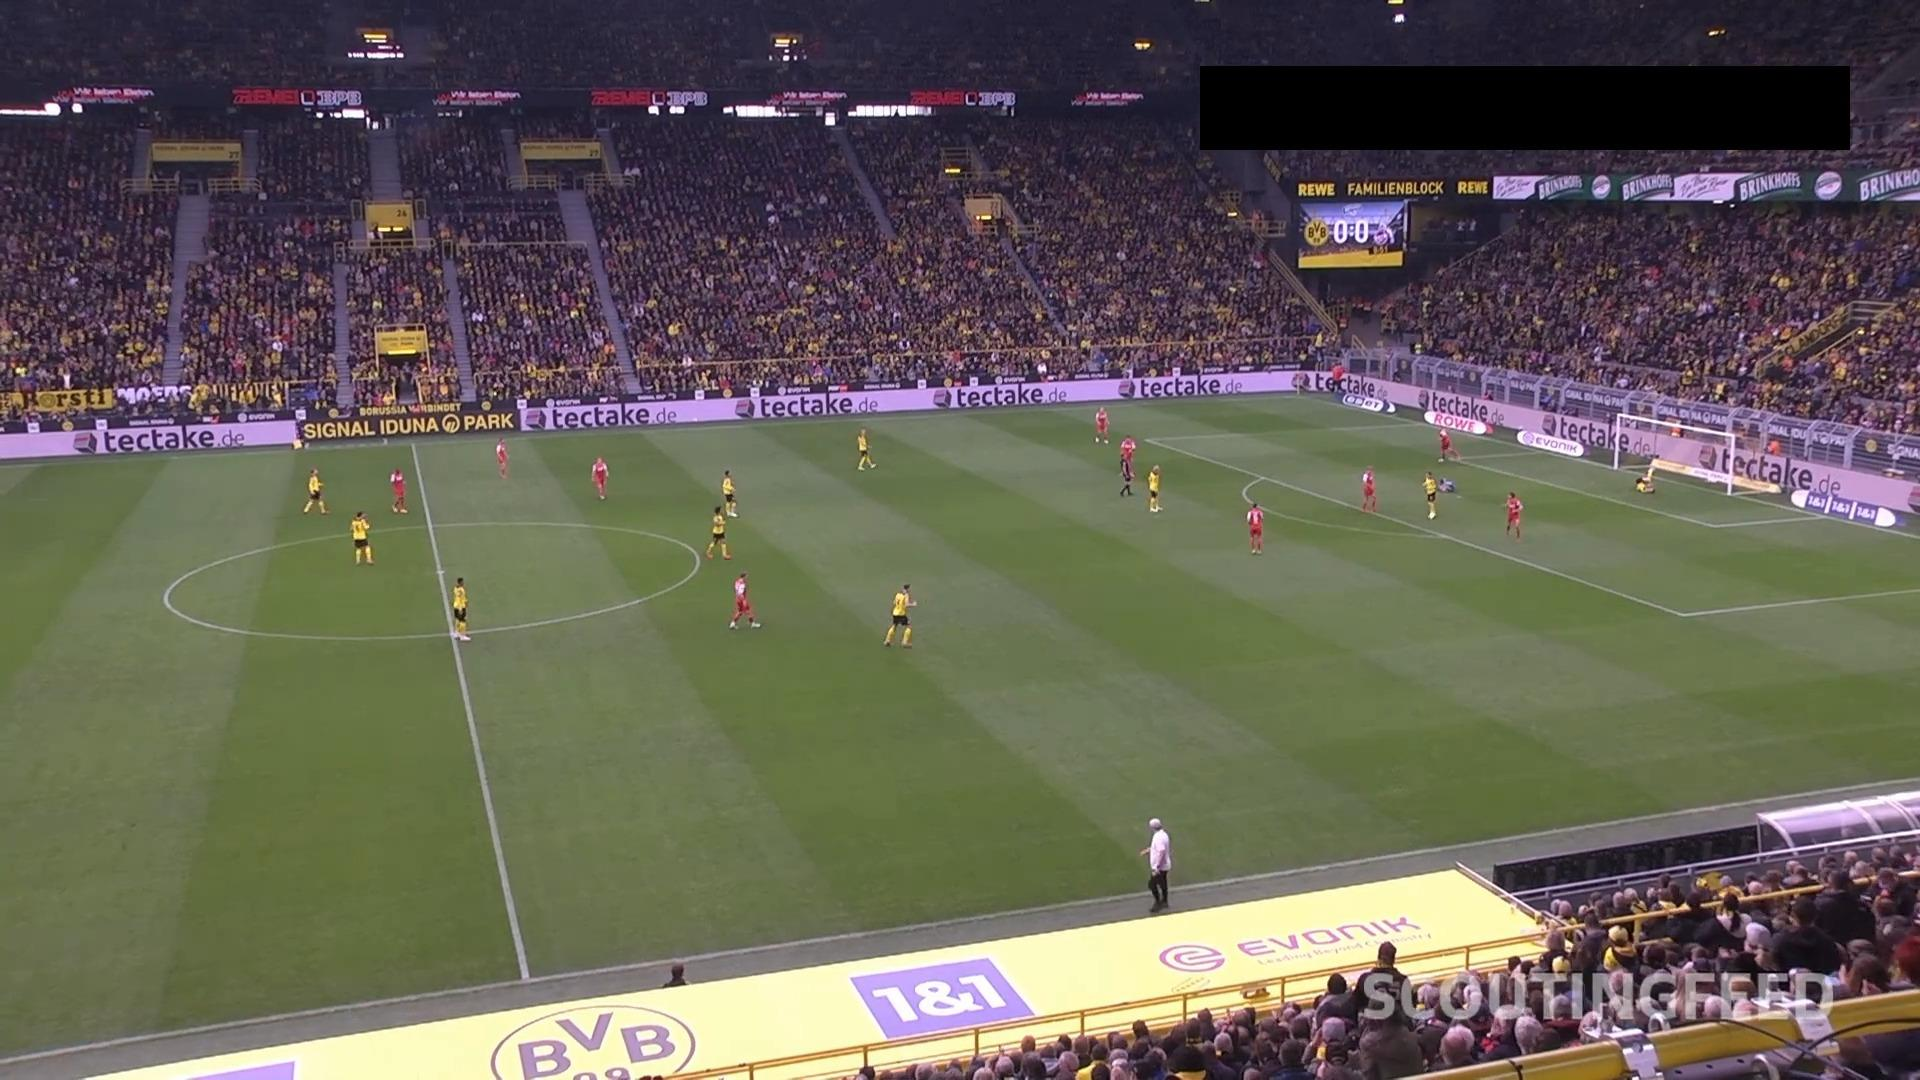coach: (1138, 816, 1172, 914)
player: (881, 582, 917, 647), (727, 570, 760, 628), (704, 504, 732, 560), (301, 466, 329, 514), (350, 509, 374, 565), (450, 575, 470, 640), (1118, 434, 1136, 496), (1245, 500, 1264, 553), (388, 466, 409, 513), (1503, 490, 1523, 539), (1635, 454, 1659, 493), (855, 426, 876, 470), (720, 469, 738, 518), (1421, 470, 1438, 519), (1436, 427, 1459, 462), (1360, 465, 1377, 512), (1146, 464, 1162, 512), (591, 455, 608, 500), (1092, 405, 1110, 443), (494, 437, 509, 478), (1635, 473, 1654, 493)
referee: (1330, 362, 1346, 390), (291, 422, 306, 450)
